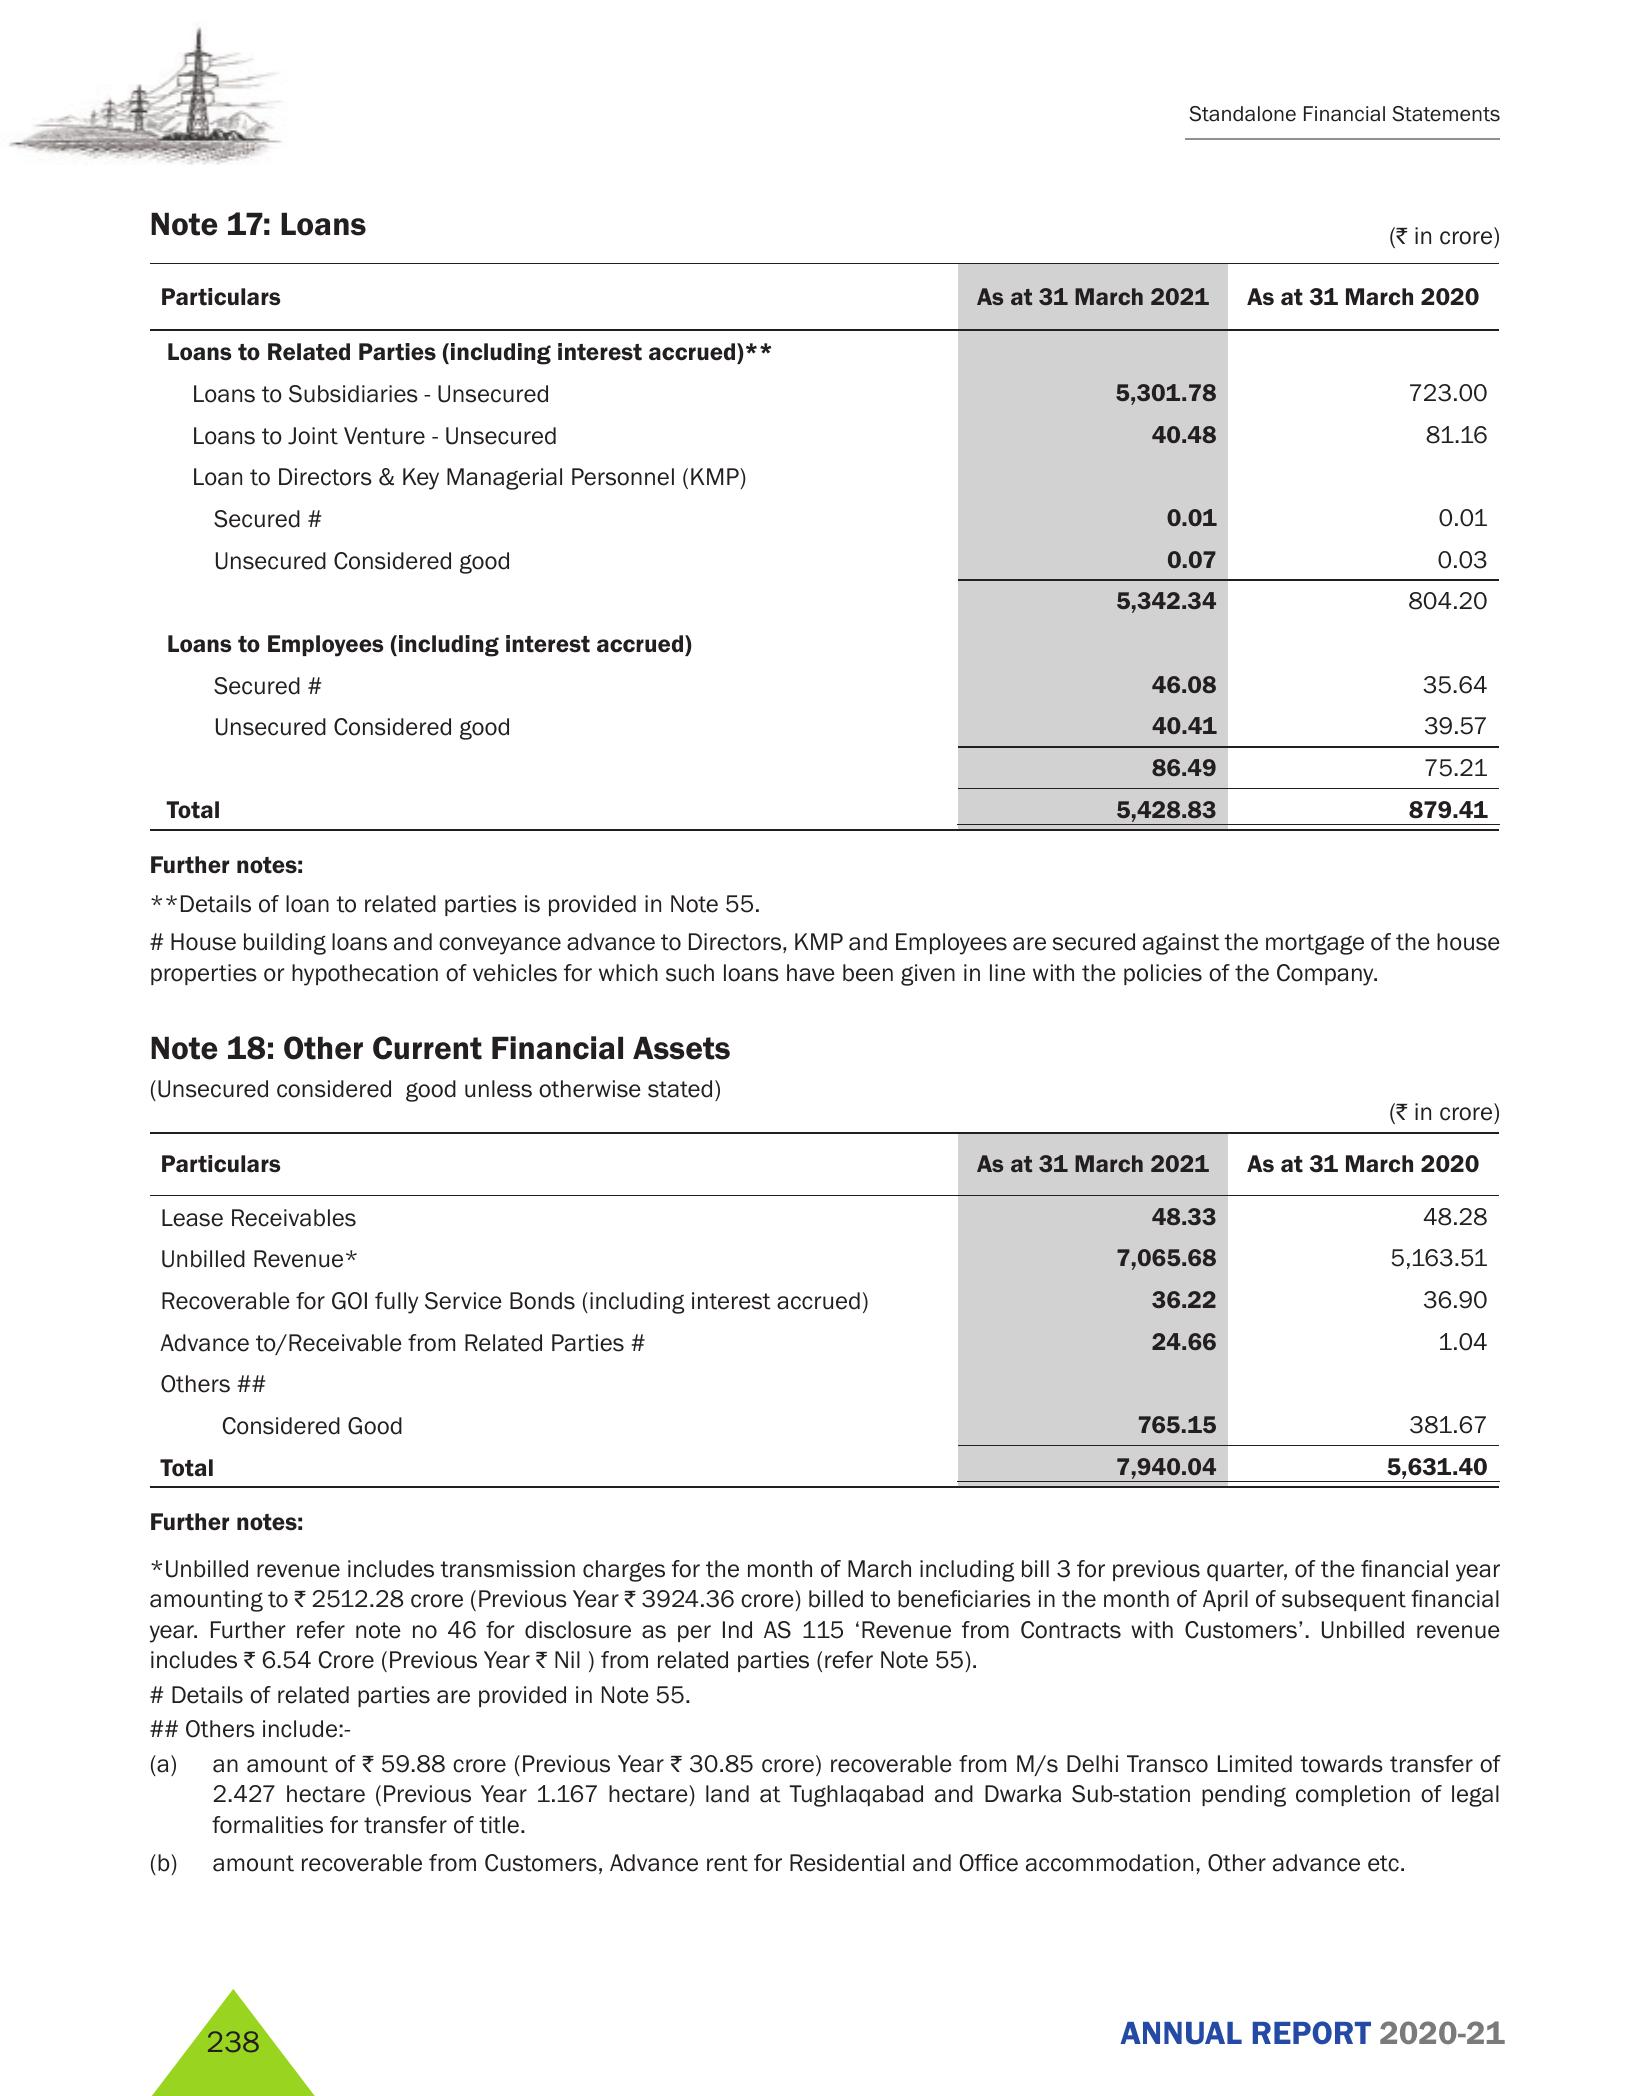Footer: (0, 1965, 1650, 2096)
Header: (0, 0, 1650, 180)
Table: (146, 260, 1504, 829), (134, 1128, 1528, 1490)
